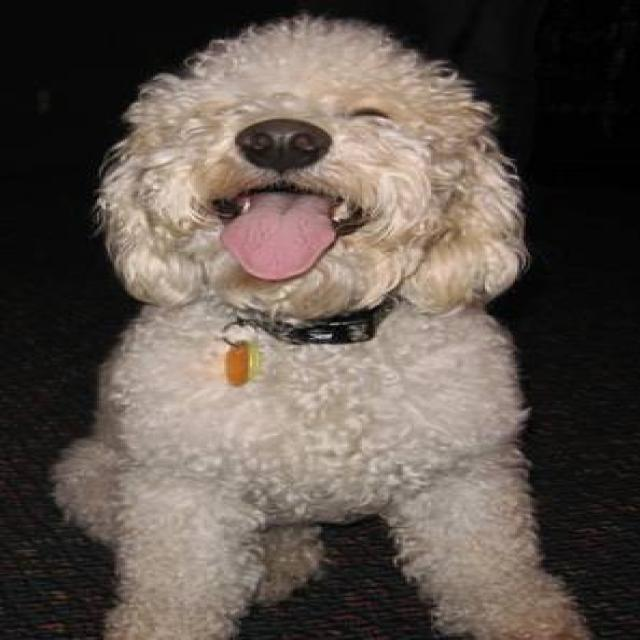dog: (45, 13, 595, 638)
